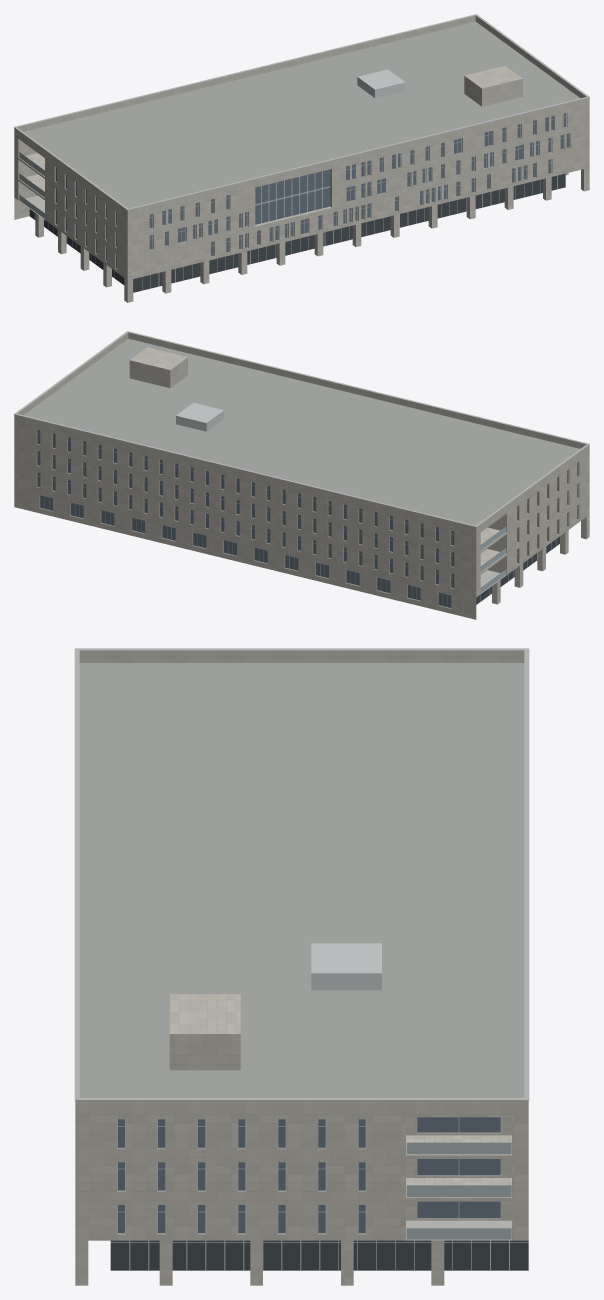
3 renders of one model, top to bottom at view 1: azimuth 30°, elevation 25°; view 2: azimuth 150°, elevation 25°; view 3: azimuth 270°, elevation 25°, orthographic. The views are drawn at different scales.
Visible parts, largest first — view 1: veritasC__roof, veritasC__wall, veritasC__glass, veritasC__glassDark, veritasC__frame, veritasC__column, veritasC__reveal, veritasC__cap, veritasC__glassRail; view 2: veritasC__wall, veritasC__roof, veritasC__glass, veritasC__frame, veritasC__reveal, veritasC__cap, veritasC__column, veritasC__glassRail, veritasC__glassDark; view 3: veritasC__roof, veritasC__wall, veritasC__glassDark, veritasC__glass, veritasC__cap, veritasC__frame, veritasC__glassRail, veritasC__column, veritasC__paving.
Boxes of the visible parts, box(x1,y1,x2,y2) form: veritasC__roof: box(24, 21, 579, 208); veritasC__wall: box(14, 15, 589, 280); veritasC__glass: box(56, 113, 569, 267); veritasC__glassDark: box(29, 173, 565, 292); veritasC__frame: box(34, 69, 569, 290); veritasC__column: box(35, 168, 589, 302); veritasC__reveal: box(54, 113, 570, 269); veritasC__cap: box(14, 14, 589, 210); veritasC__glassRail: box(19, 152, 44, 218); veritasC__wall: box(14, 332, 589, 619); veritasC__roof: box(24, 338, 579, 525); veritasC__glass: box(37, 430, 577, 607); veritasC__frame: box(37, 402, 578, 607); veritasC__reveal: box(36, 430, 579, 608); veritasC__cap: box(14, 331, 589, 527); veritasC__column: box(492, 515, 589, 604); veritasC__glassRail: box(480, 526, 506, 592); veritasC__glassDark: box(476, 536, 559, 604); veritasC__roof: box(79, 663, 524, 1097); veritasC__wall: box(75, 650, 528, 1240); veritasC__glassDark: box(110, 1240, 528, 1270); veritasC__glass: box(118, 1117, 500, 1232); veritasC__cap: box(74, 648, 529, 1101); veritasC__frame: box(110, 943, 528, 1270); veritasC__glassRail: box(406, 1142, 511, 1239); veritasC__column: box(75, 1240, 444, 1285); veritasC__paving: box(406, 1220, 511, 1240).
Bounding box in the file's own units: 90.57 × 19.6 × 38.52.
11 materials, 3 textured.
